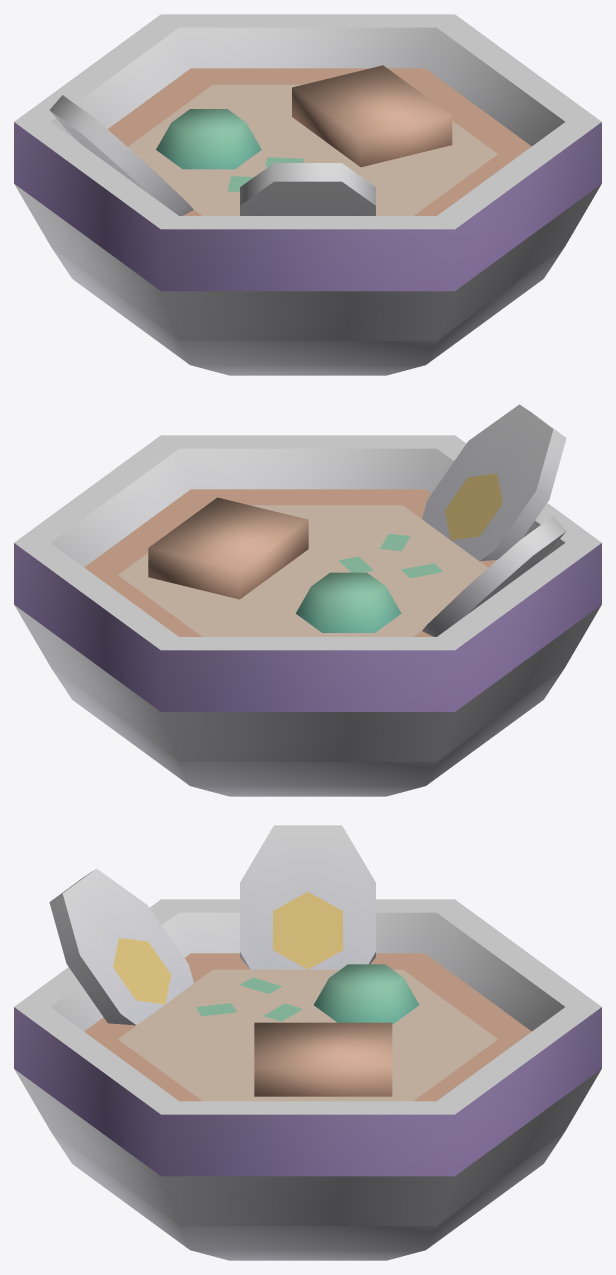
Rendered from bowl-broth.glb.
The picture shows the model from 3 angles, top to bottom: view 1: azimuth 30°, elevation 25°; view 2: azimuth 150°, elevation 25°; view 3: azimuth 270°, elevation 25°; orthographic projection.
Parts seen in each view (by area): view 1: bowl-broth; view 2: bowl-broth; view 3: bowl-broth.
Part boxes in pixels (x1,y1,x2,y2): bowl-broth: (14, 14, 601, 375); bowl-broth: (14, 404, 601, 796); bowl-broth: (14, 825, 601, 1260).
Bounding box in the file's own units: 0.5262 × 0.2903 × 0.5798.
